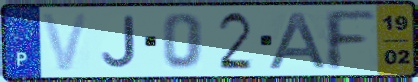0: (159, 11, 205, 72)
2: (215, 10, 256, 72)
A: (265, 10, 331, 71)
F: (320, 8, 379, 73)
J: (100, 14, 139, 70)
V: (39, 11, 92, 73)
